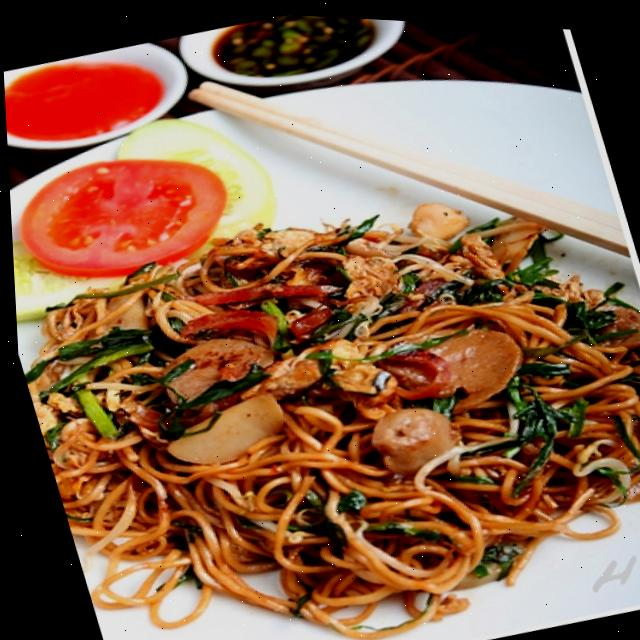面条主食: (1, 36, 640, 640)
